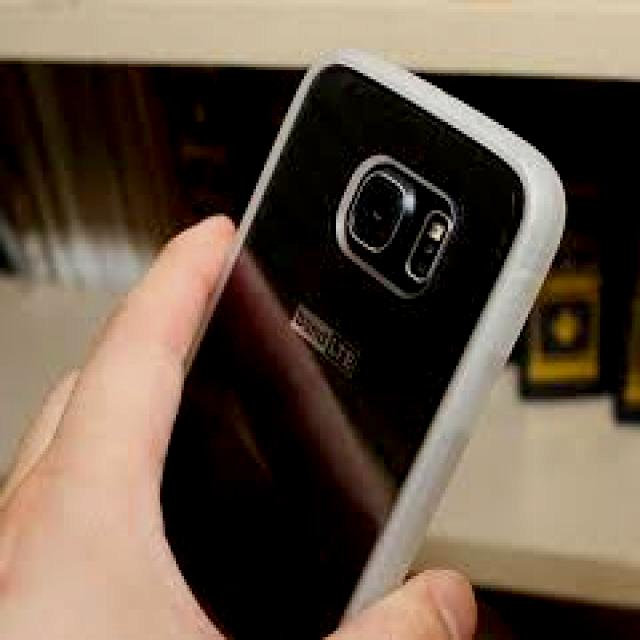lens: (342, 161, 454, 288)
phone: (160, 55, 555, 640)
